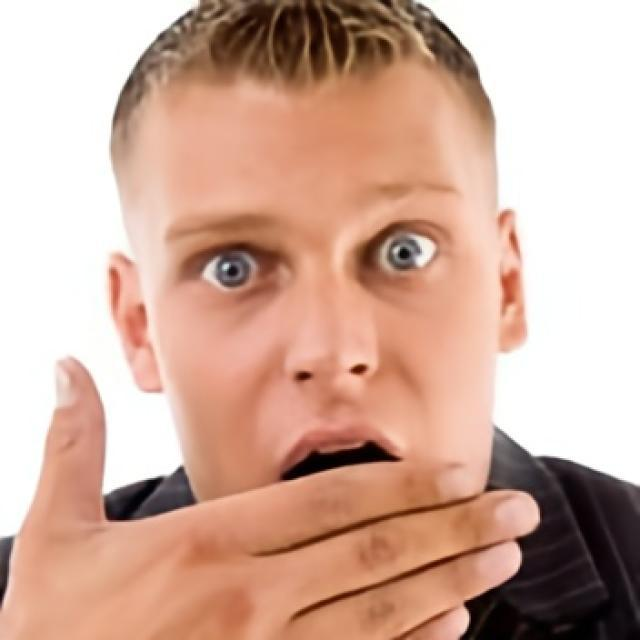fear: (138, 59, 503, 557)
